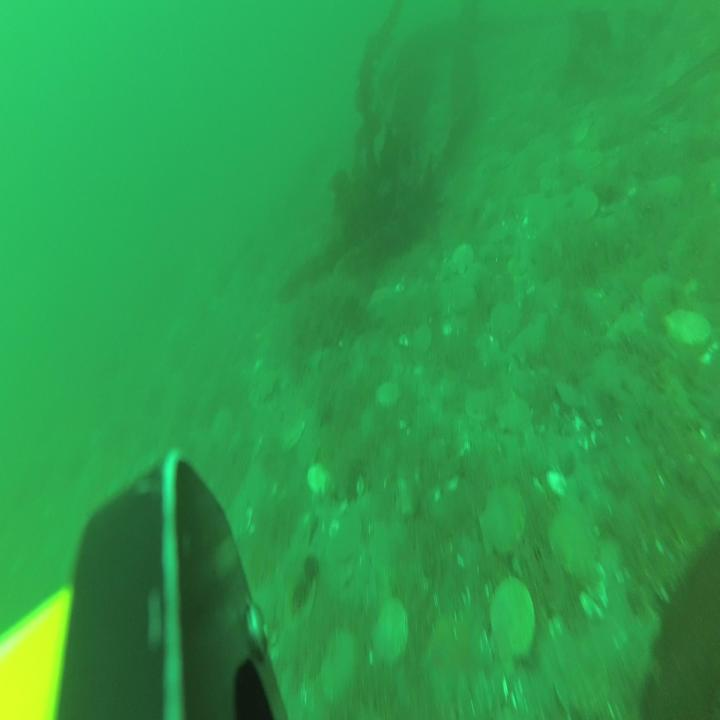scallop: (425, 616, 493, 720), (492, 579, 536, 663), (483, 483, 527, 560), (552, 500, 590, 586), (556, 641, 602, 709), (663, 302, 707, 354), (323, 637, 358, 701), (373, 604, 410, 662), (368, 521, 398, 573), (331, 512, 362, 562), (642, 270, 674, 317), (466, 386, 498, 428), (491, 302, 520, 347), (308, 462, 334, 503), (572, 187, 596, 227), (284, 418, 305, 459), (376, 379, 399, 413), (410, 320, 431, 355), (452, 243, 475, 270)
